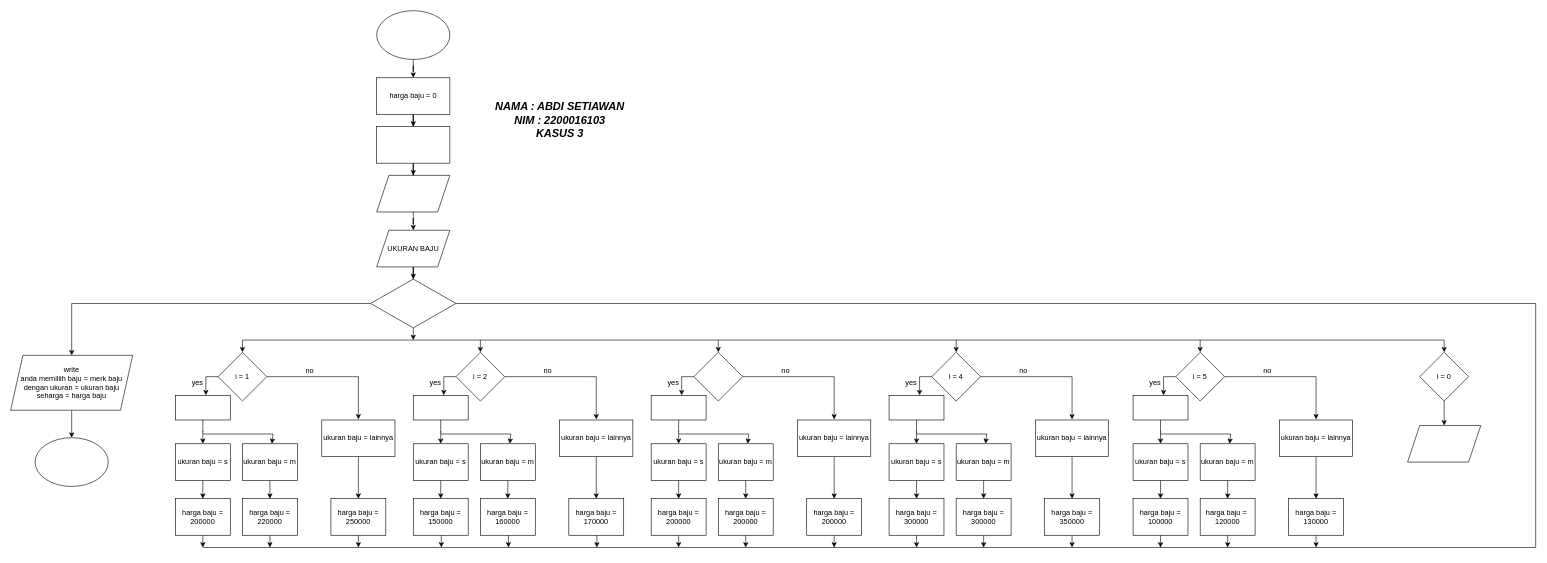
Image size: 1547x563. Some labels were removed from this diagram. Here are the shapes that lost their labels. From the top down, the centre of each, then its label:
(413,34): START
(413,144): merk baju = " "
(413,193): KODE BAJU
(413,303): RANGE i = 1 - 6
(718,376): i = 3
(202,407): merk baju = IMP
(440,407): merk baju = Prada
(678,407): merk baju = Gucci
(916,407): merk baju = Louis Vuitton
(1160,407): merk baju = Kick Denim
(71,461): end
(1444,443): write Kode Baju tidak ditemukan!!!
